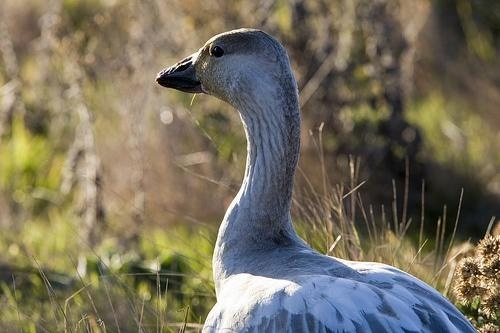bird: (154, 30, 484, 333)
